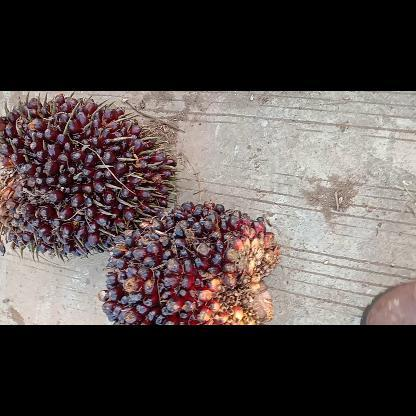TBS mentah: (0, 90, 178, 258), (100, 200, 280, 324)
